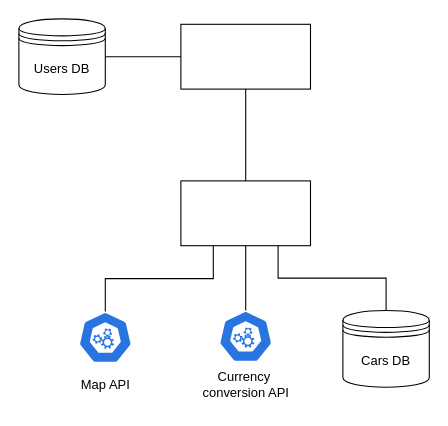
The diagram is 448 pixels wide and 426 high, and some of its shapes have lost their labels. The shapes that lost their labels are listed below. From the top down, each one's box as (x1, y1, x2, y2) in pixels, then its label:
(180, 23, 310, 89): User service
(180, 180, 310, 246): Car rental service
